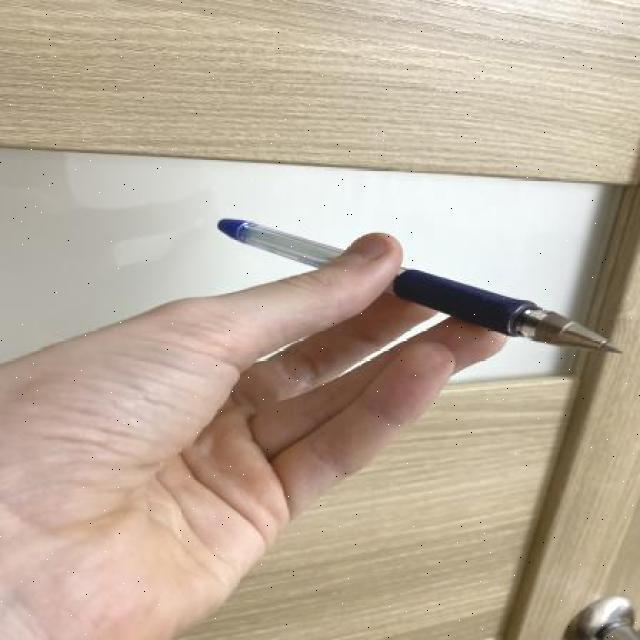pen: (214, 217, 629, 359)
